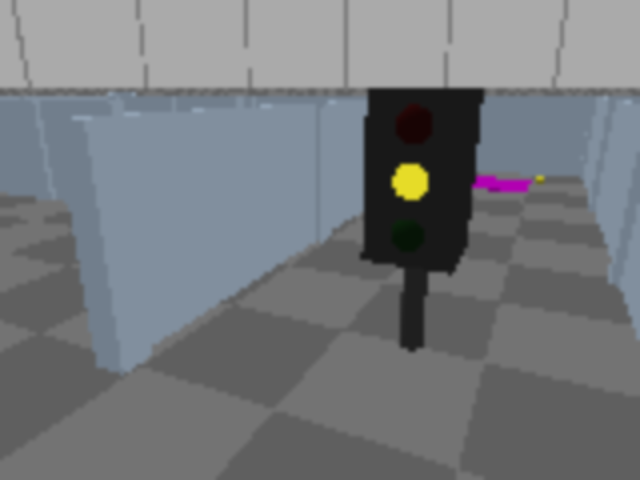goal_zone: (456, 176, 531, 194)
traffic_light: (359, 70, 485, 376)
